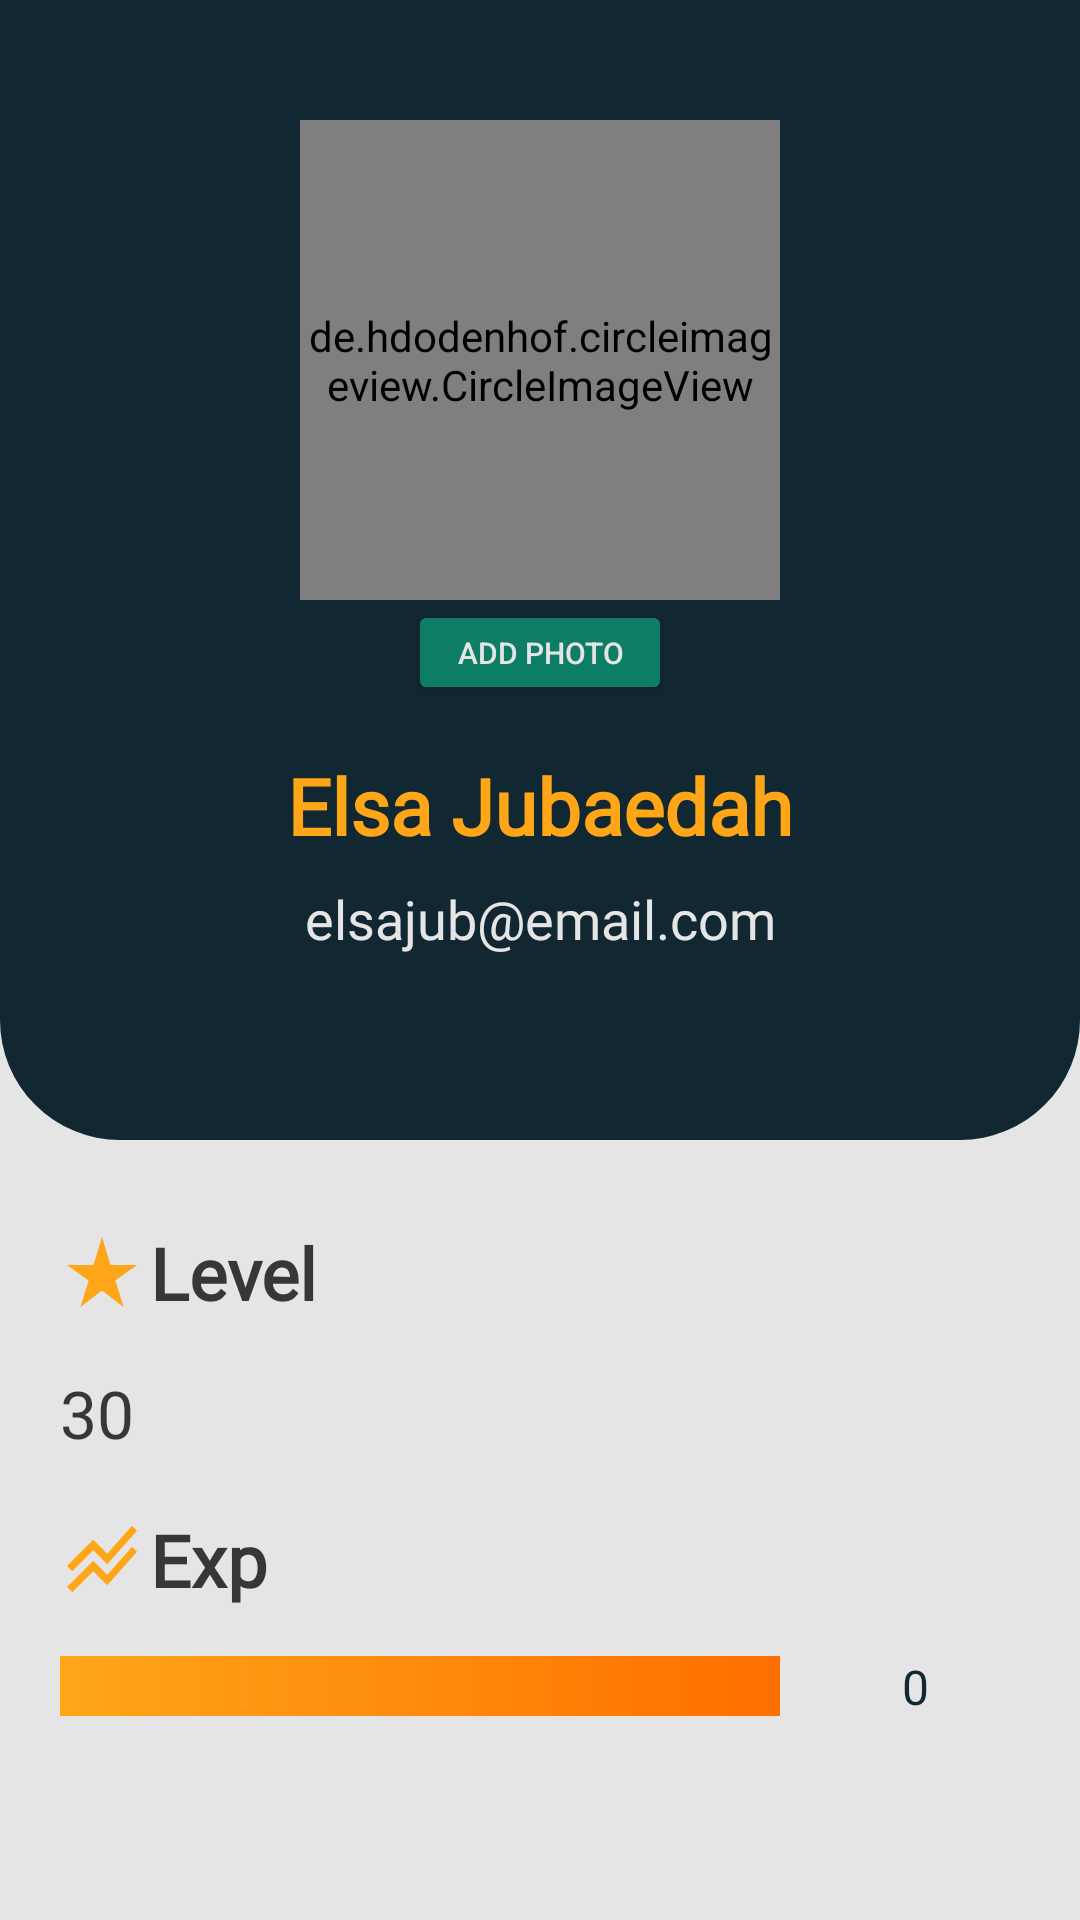

Named icons in this screenshot (1080w x 1920h) and their bounding boxes, (x1, y1, x2, y2):
star rate: (67, 1237, 137, 1307)
